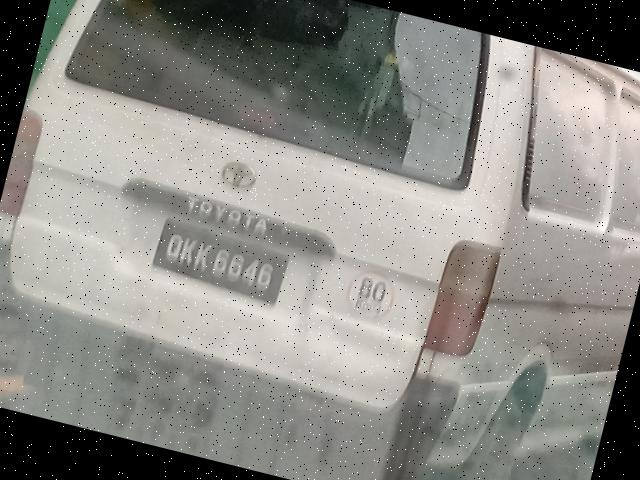License_Plate: (150, 217, 295, 309)
van: (1, 1, 640, 480)
